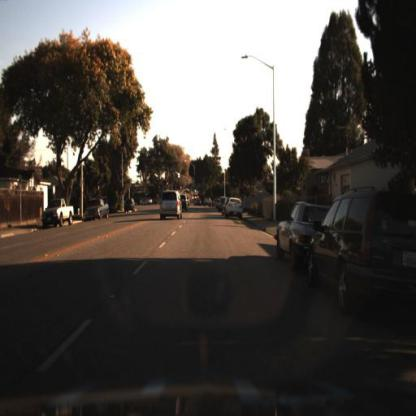car: (308, 187, 416, 312), (272, 197, 333, 274), (277, 198, 327, 266), (41, 197, 75, 231), (42, 197, 74, 228), (243, 190, 278, 215), (82, 197, 112, 223), (159, 189, 183, 221), (85, 198, 110, 223), (224, 196, 245, 224), (123, 197, 137, 216), (125, 196, 139, 215)
